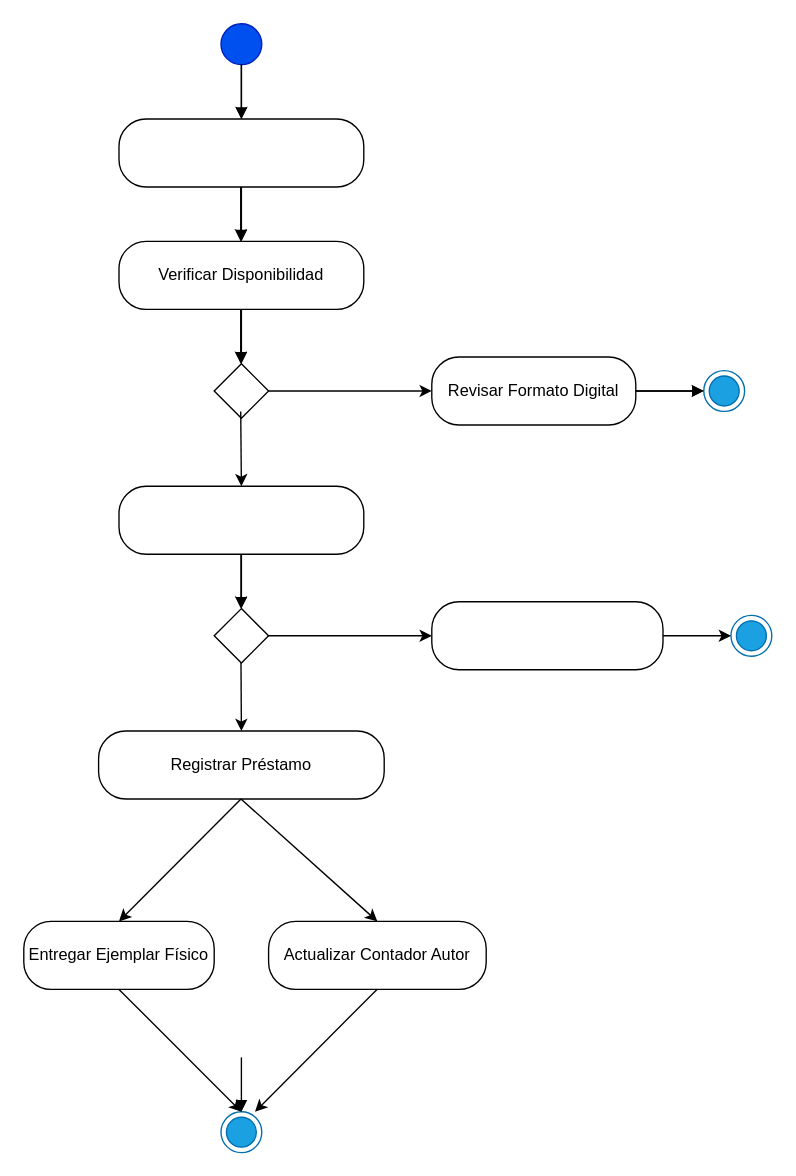
Some shapes in this 796 by 1176 pixel diagram are drawn without their labels. The shapes that lost their labels are listed below. From the top down, each one's box as (x1, y1, x2, y2) in pixels, then its label:
(118, 118, 364, 187): Buscar Libro en Catálogo
(118, 485, 364, 554): Validar Límite del Cliente
(430, 600, 663, 670): Denegar Préstamo
